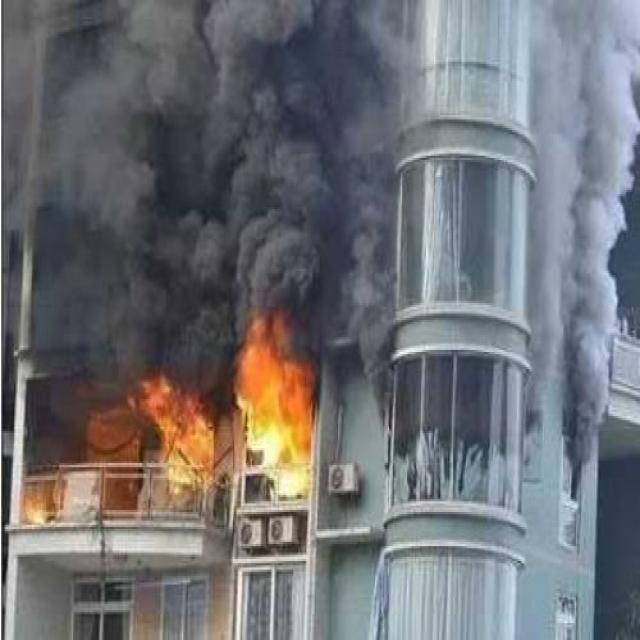fire: (234, 311, 315, 476), (133, 362, 216, 492)
smoke: (14, 0, 401, 350), (534, 0, 634, 378)
